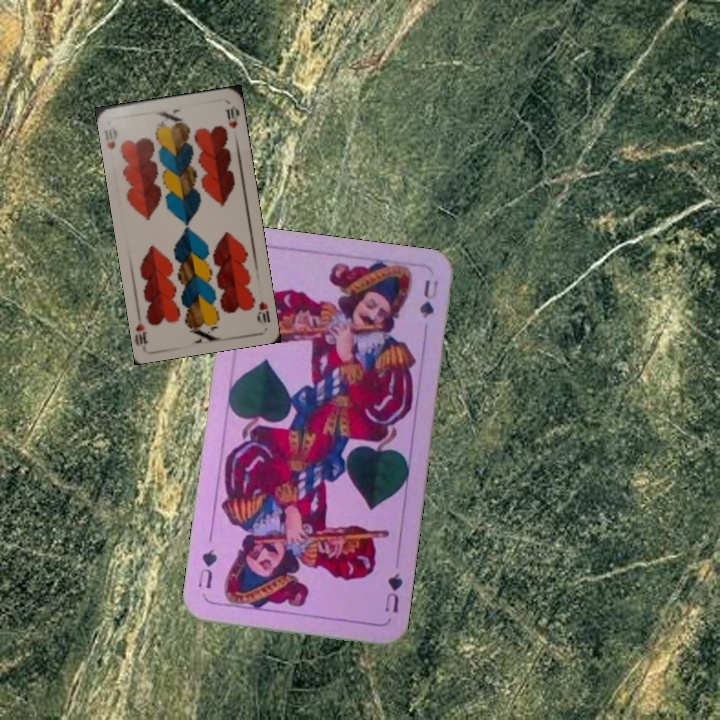GU: (381, 566, 406, 616)
H10: (253, 297, 273, 328), (101, 123, 120, 152)
